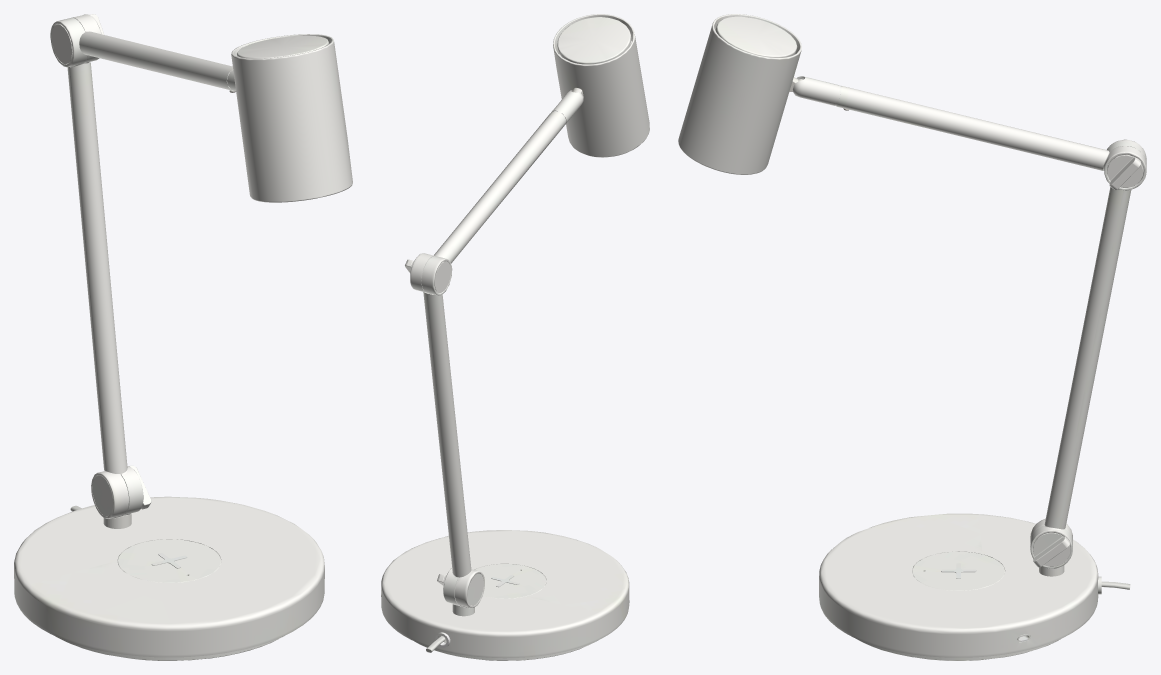
Rendered from nymane-work-lamp-white.glb.
3 renders of one model, left to right at view 1: azimuth 30°, elevation 25°; view 2: azimuth 150°, elevation 25°; view 3: azimuth 270°, elevation 25°, orthographic. The views are drawn at different scales.
Parts seen in each view (by area): view 1: 20448607-NYMÃƒÆ’Ã¢â‚¬Â¦NE001; view 2: 20448607-NYMÃƒÆ’Ã¢â‚¬Â¦NE001; view 3: 20448607-NYMÃƒÆ’Ã¢â‚¬Â¦NE001.
Boxes of the visible parts, x1,y1,x2,y2 form: 20448607-NYMÃƒÆ’Ã¢â‚¬Â¦NE001: (14, 14, 352, 660); 20448607-NYMÃƒÆ’Ã¢â‚¬Â¦NE001: (381, 14, 649, 660); 20448607-NYMÃƒÆ’Ã¢â‚¬Â¦NE001: (678, 14, 1146, 660).
Size of the model in its own units: 0.2103 by 0.4835 by 0.3525.
1 material, 1 textured.
